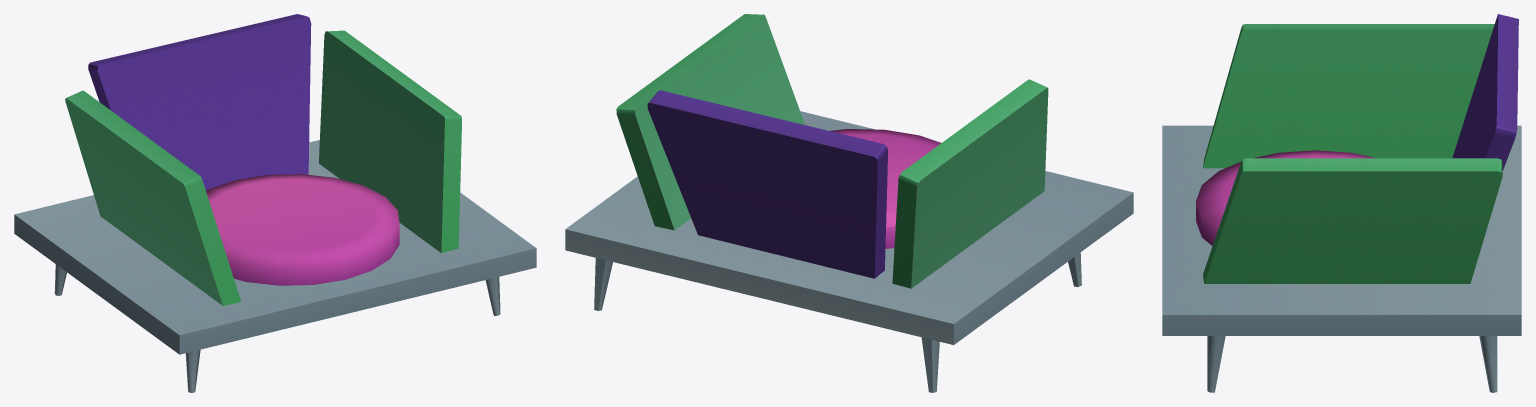
File: 80s Chair.fbx
3 views of the same model, side by side, from view 1: azimuth 30°, elevation 25°; view 2: azimuth 150°, elevation 25°; view 3: azimuth 270°, elevation 25° (orthographic). The views are drawn at different scales.
Visible parts, largest first — view 1: pCube1, pCube4, pCube2, pCylinder5, pCube3, pCylinder1; view 2: pCube1, pCube4, pCube3, pCube2, pCylinder5, pCylinder2, pCylinder3; view 3: pCube2, pCube3, pCube1, pCube4, pCylinder5, pCylinder3, pCylinder4.
Boxes of the visible parts, bbox=[...] form: pCube1: bbox=[14, 140, 536, 354]; pCube4: bbox=[88, 14, 311, 190]; pCube2: bbox=[319, 30, 461, 253]; pCylinder5: bbox=[206, 174, 399, 285]; pCube3: bbox=[65, 90, 241, 305]; pCylinder1: bbox=[185, 349, 200, 392]; pCube1: bbox=[565, 111, 1133, 344]; pCube4: bbox=[647, 90, 888, 278]; pCube3: bbox=[892, 79, 1048, 288]; pCube2: bbox=[616, 14, 804, 230]; pCylinder5: bbox=[830, 129, 940, 248]; pCylinder2: bbox=[921, 337, 939, 392]; pCylinder3: bbox=[594, 258, 612, 310]; pCube2: bbox=[1203, 158, 1502, 283]; pCube3: bbox=[1203, 24, 1494, 168]; pCube1: bbox=[1162, 125, 1521, 335]; pCube4: bbox=[1452, 14, 1518, 170]; pCylinder5: bbox=[1196, 150, 1376, 245]; pCylinder3: bbox=[1479, 336, 1497, 392]; pCylinder4: bbox=[1207, 336, 1225, 392].
Bounding box in the file's own units: 66.32 × 38.76 × 53.17.
